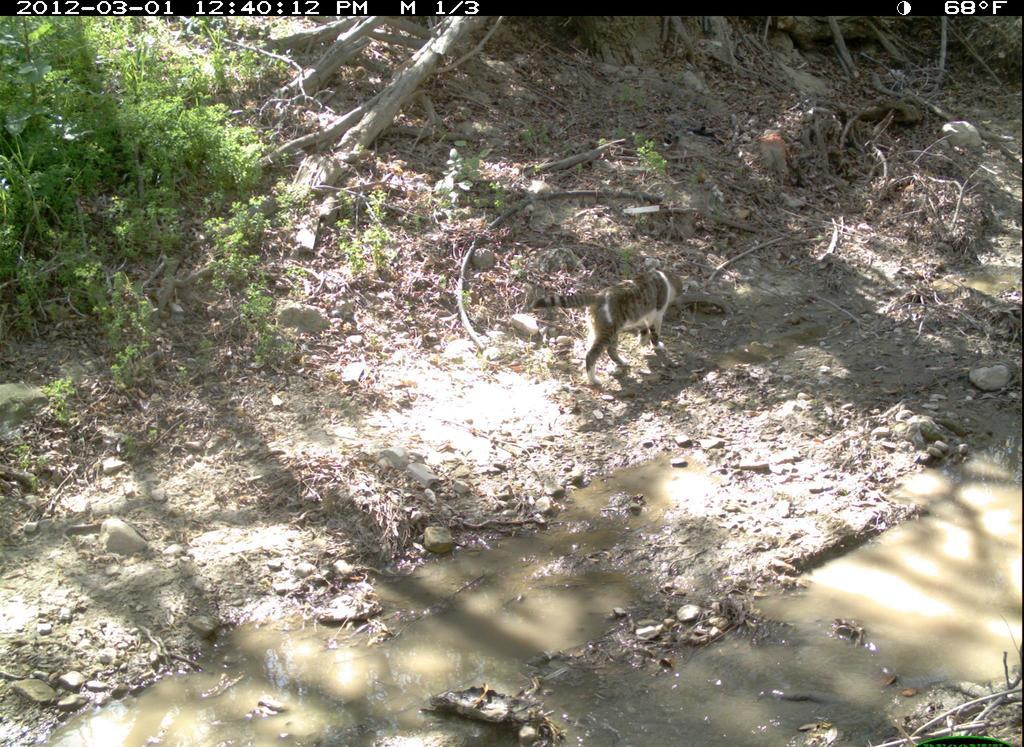cat: (524, 264, 706, 391)
